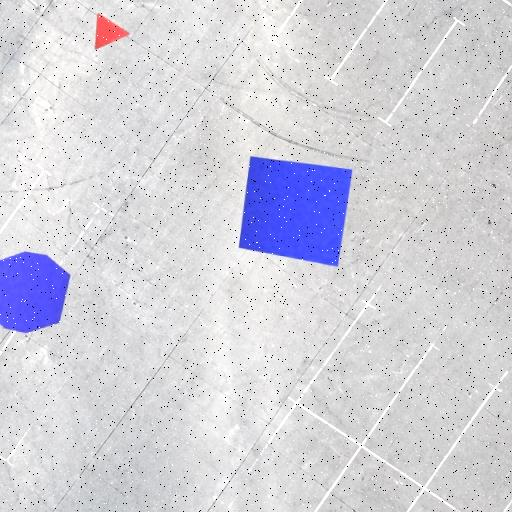BLUE_SQUARE: (238, 156, 354, 267)
